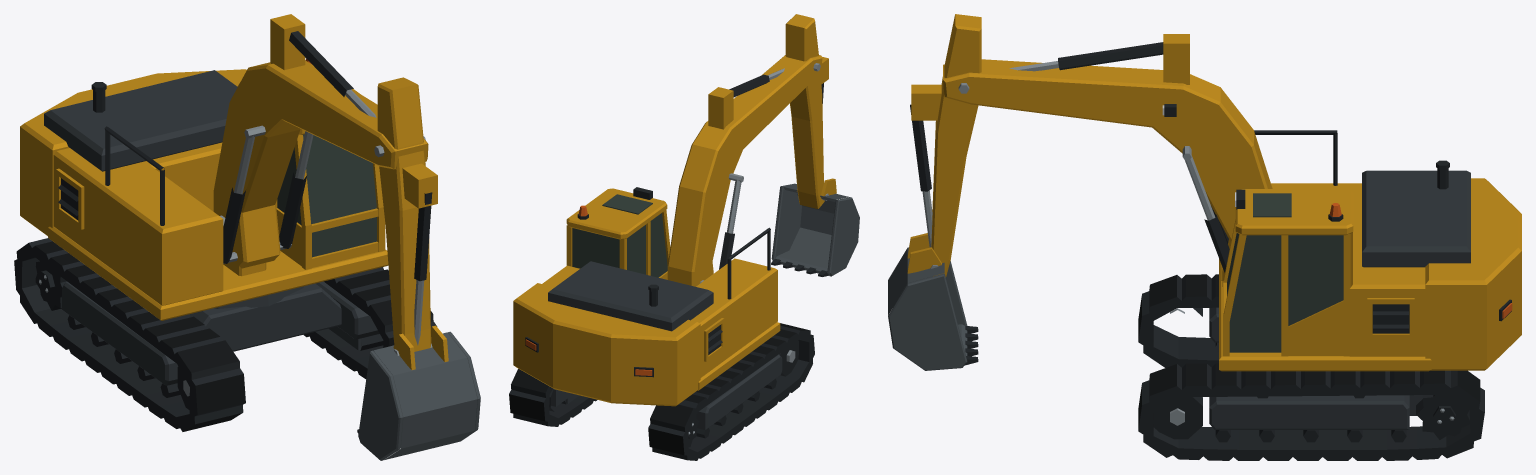
The model's file is tracked-excavator-8ebd3c.glb.
3 views of the same model, side by side, from view 1: azimuth 30°, elevation 25°; view 2: azimuth 150°, elevation 25°; view 3: azimuth 270°, elevation 25° (orthographic). The views are drawn at different scales.
Parts seen in each view (by area): view 1: upper-structure, undercarriage, boom-member, shell, dipper-member, sprocket-r-mesh; view 2: upper-structure, boom-member, undercarriage, shell, dipper-member, idler-r-mesh; view 3: upper-structure, undercarriage, boom-member, dipper-member, shell, sprocket-l-mesh, idler-l-mesh.
Boxes of the visible parts, x1,y1,x2,y2 form: upper-structure: (20, 58, 388, 320); undercarriage: (14, 238, 437, 431); boom-member: (213, 14, 428, 268); shell: (357, 325, 480, 460); dipper-member: (377, 77, 437, 355); sprocket-r-mesh: (35, 261, 66, 310); upper-structure: (513, 187, 780, 406); boom-member: (667, 55, 822, 286); undercarriage: (509, 323, 814, 460); shell: (771, 178, 859, 276); dipper-member: (785, 14, 828, 208); idler-r-mesh: (779, 340, 798, 376); upper-structure: (1219, 130, 1521, 371); undercarriage: (1138, 274, 1484, 460); boom-member: (943, 34, 1272, 286); dipper-member: (910, 14, 981, 277); shell: (888, 233, 978, 370); sprocket-l-mesh: (1416, 395, 1469, 439); idler-l-mesh: (1153, 397, 1202, 439).
Bounding box in the file's own units: 3 × 4.78 × 7.21.
